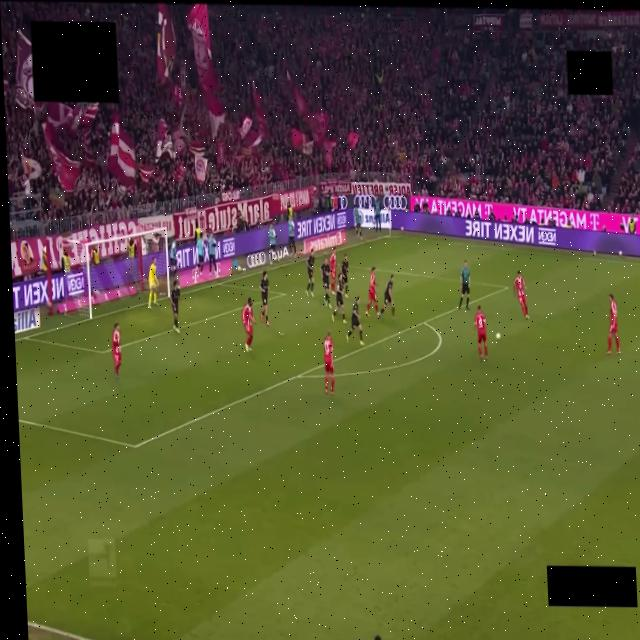ball: (496, 333, 500, 340)
player: (241, 298, 257, 352), (346, 296, 363, 345), (472, 306, 487, 361), (606, 295, 619, 354), (513, 271, 528, 319), (323, 332, 334, 395), (378, 276, 394, 317), (319, 258, 332, 308), (332, 274, 345, 323), (366, 267, 378, 316), (148, 257, 158, 308), (259, 272, 268, 326), (170, 280, 179, 332), (112, 323, 120, 377), (306, 249, 314, 296), (341, 255, 348, 297), (329, 248, 336, 283)
referee: (458, 261, 469, 309)
